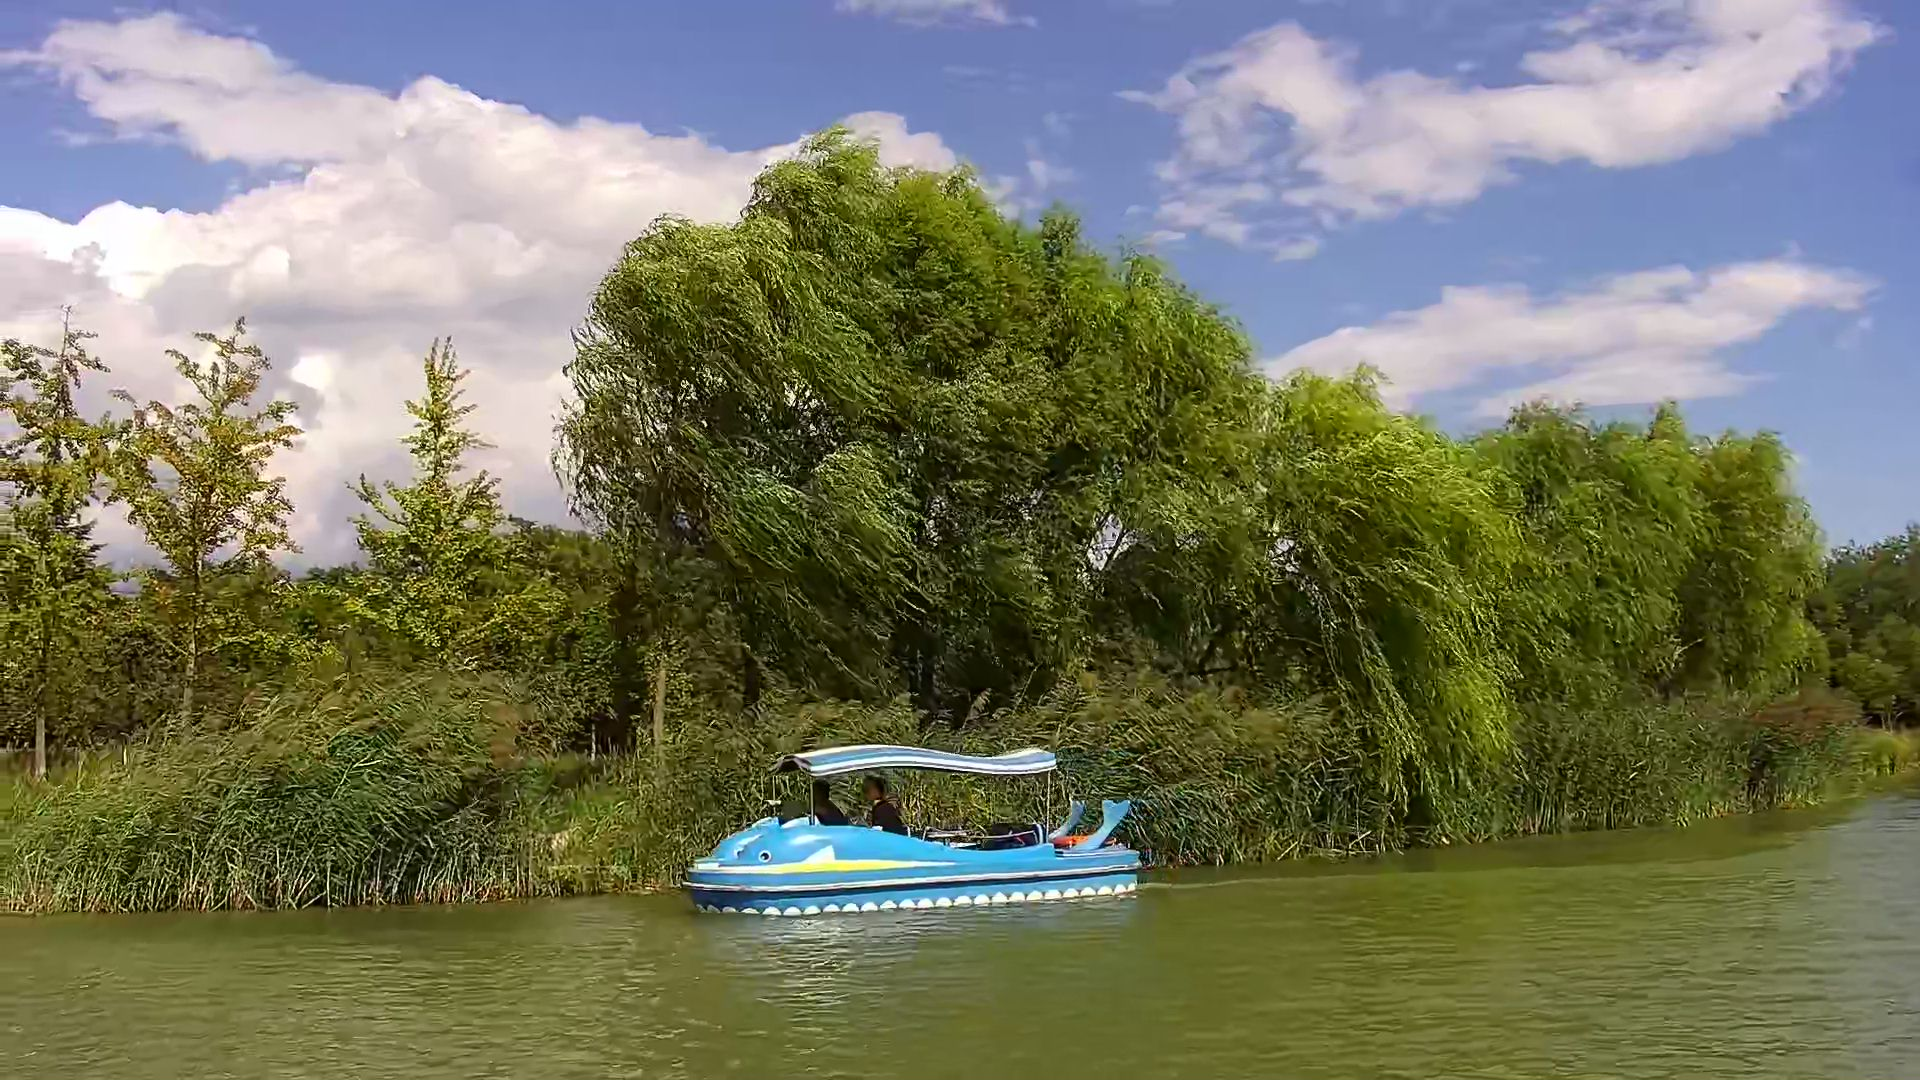boat: (680, 737, 1137, 917)
person: (859, 774, 901, 835)
